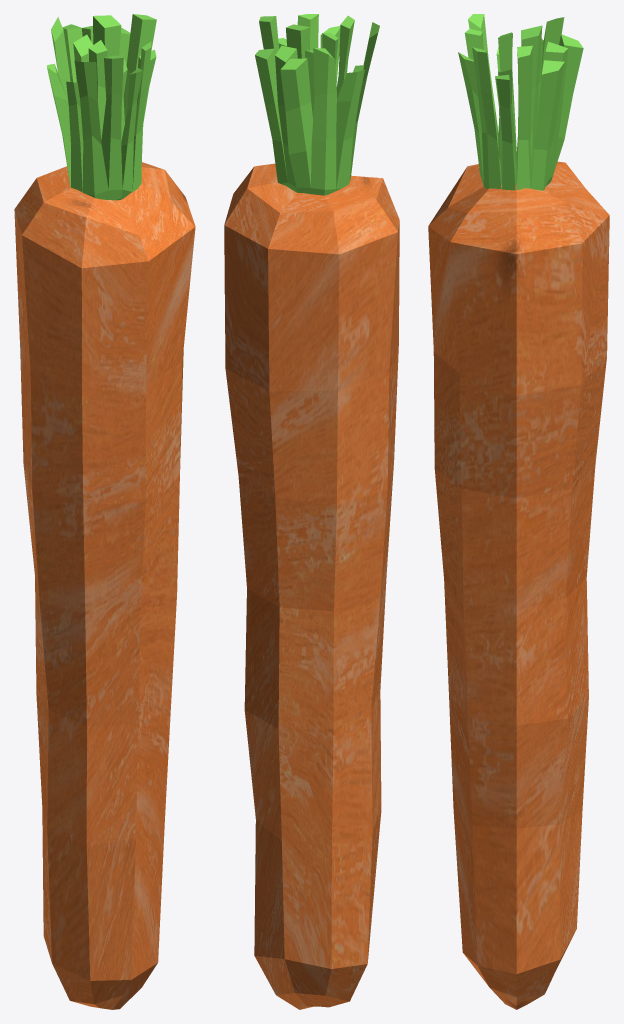
File: Carrot_real.glb
The picture shows the model from 3 angles, left to right: view 1: azimuth 30°, elevation 25°; view 2: azimuth 150°, elevation 25°; view 3: azimuth 270°, elevation 25°; orthographic projection.
Visible parts, largest first — view 1: Cylinder; view 2: Cylinder; view 3: Cylinder.
Part boxes in pixels (left/top/right/bottom): Cylinder: left=14, top=14, right=195, bottom=1009; Cylinder: left=224, top=14, right=399, bottom=1009; Cylinder: left=428, top=14, right=609, bottom=1009.
Size of the model in its own units: 0.3863 by 2.22 by 0.3733.
Materials: 2 (1 with a texture image).
